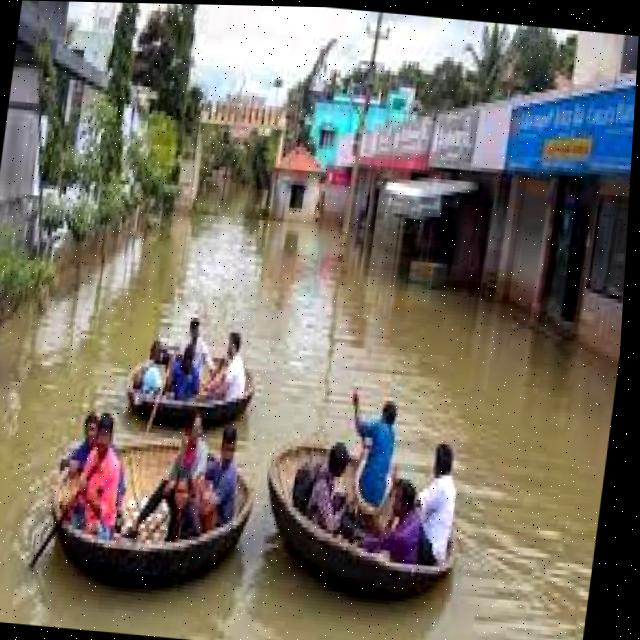civilian: (340, 381, 419, 514), (289, 432, 374, 548), (195, 416, 267, 545), (405, 435, 480, 554), (145, 413, 211, 536), (363, 476, 443, 576), (79, 409, 128, 525), (156, 467, 218, 541), (63, 412, 105, 496), (215, 325, 257, 406), (164, 339, 215, 405), (174, 308, 223, 364), (134, 333, 174, 388)
